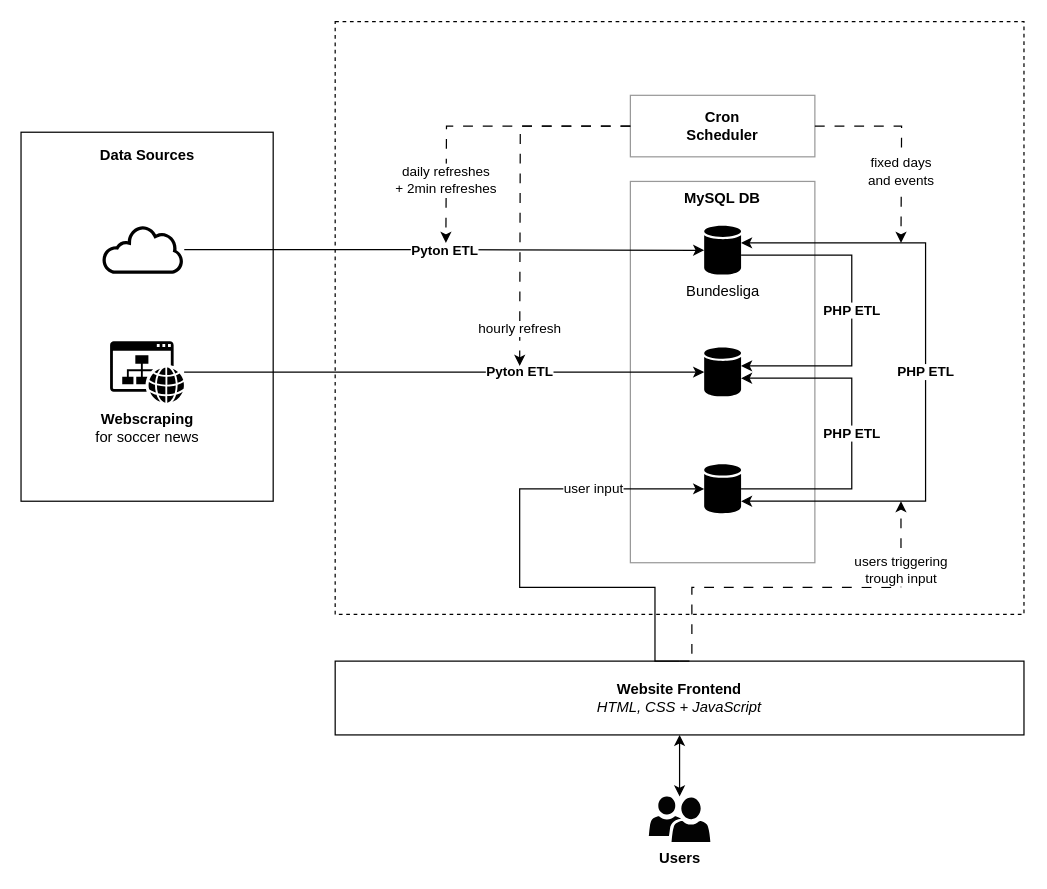
This 1047x889 diagram has some shape labels left out. The shapes that lost their labels are listed below. From the top down, each one's box as (x1, y1, x2, y2) in pixels, then its label:
(102, 225, 184, 273): API for live soccer stats
(334, 20, 1024, 614): Website Backend
(704, 347, 740, 396): News
(704, 464, 740, 513): Gameplay
